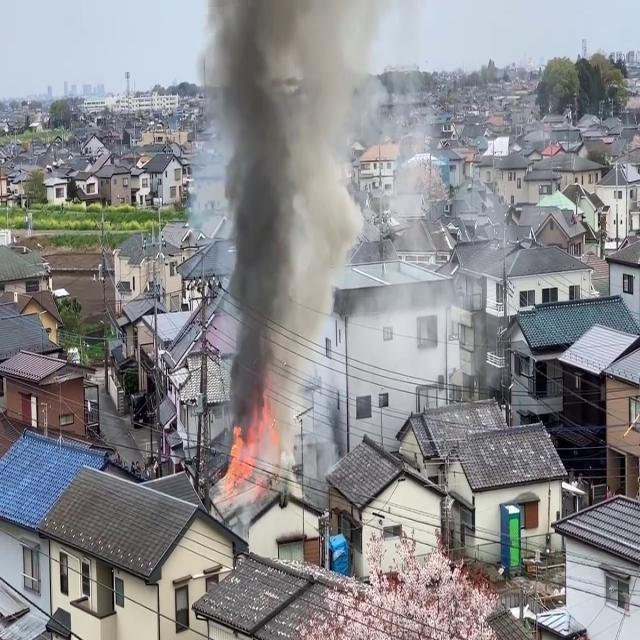Fire: (221, 420, 259, 498)
Smoke: (206, 0, 362, 468)
